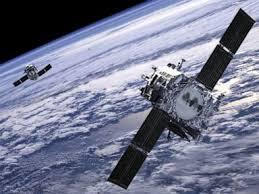body: (138, 62, 223, 138), (23, 62, 40, 82)
solar: (106, 105, 172, 191), (192, 7, 257, 93), (36, 62, 55, 77), (12, 74, 29, 88)
